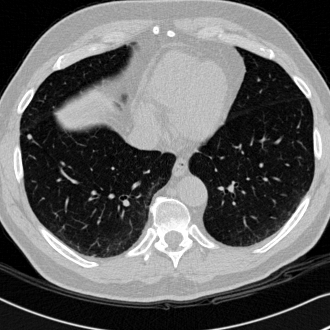nodule: (26, 133, 32, 139)
